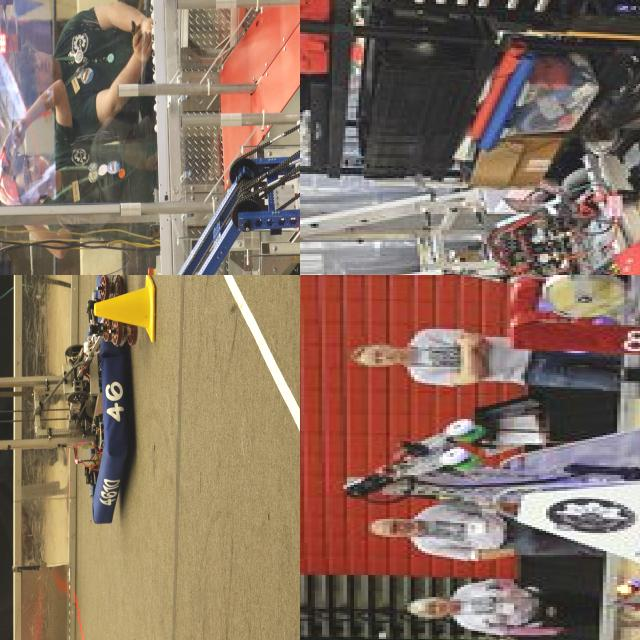FRC-Robots: (325, 381, 640, 585), (79, 0, 300, 275), (300, 124, 640, 275), (0, 275, 145, 560), (486, 275, 640, 368)
